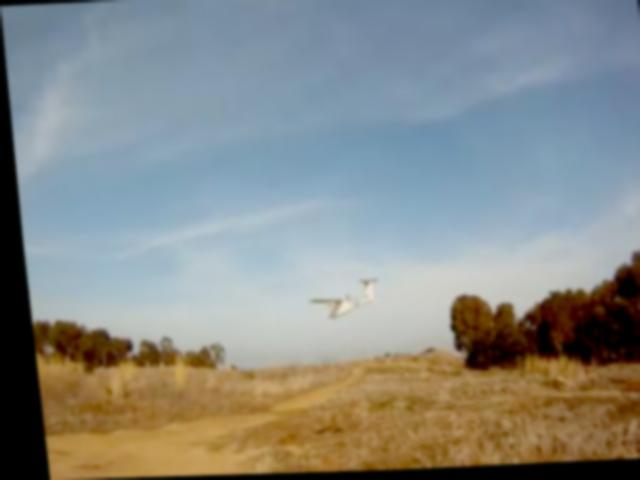uav: (295, 272, 381, 329)
